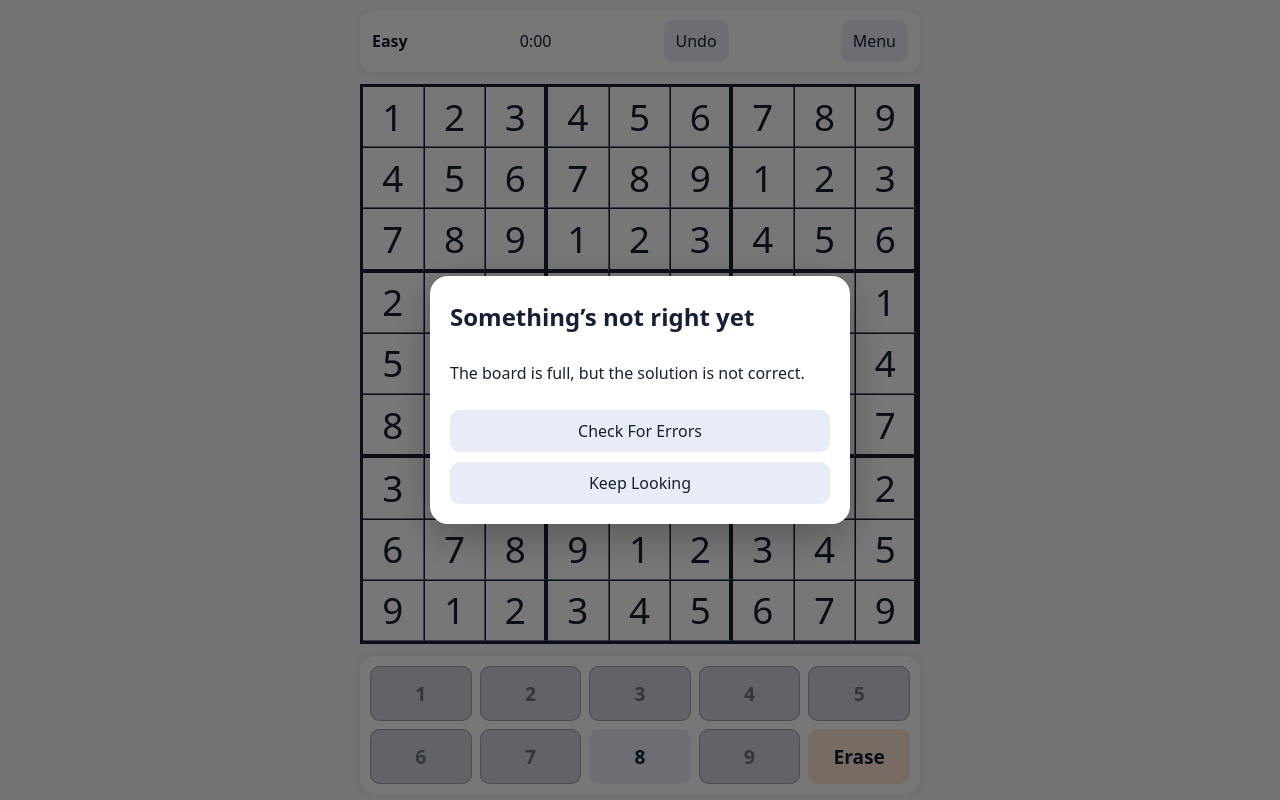
full but incorrect board shows a popup and check errors highlights wrong values
Expected: the heading "Something’s not right yet" is shown, [450,300,754,332]
Click the button "Check for errors": (640, 431) [450,410,830,452]
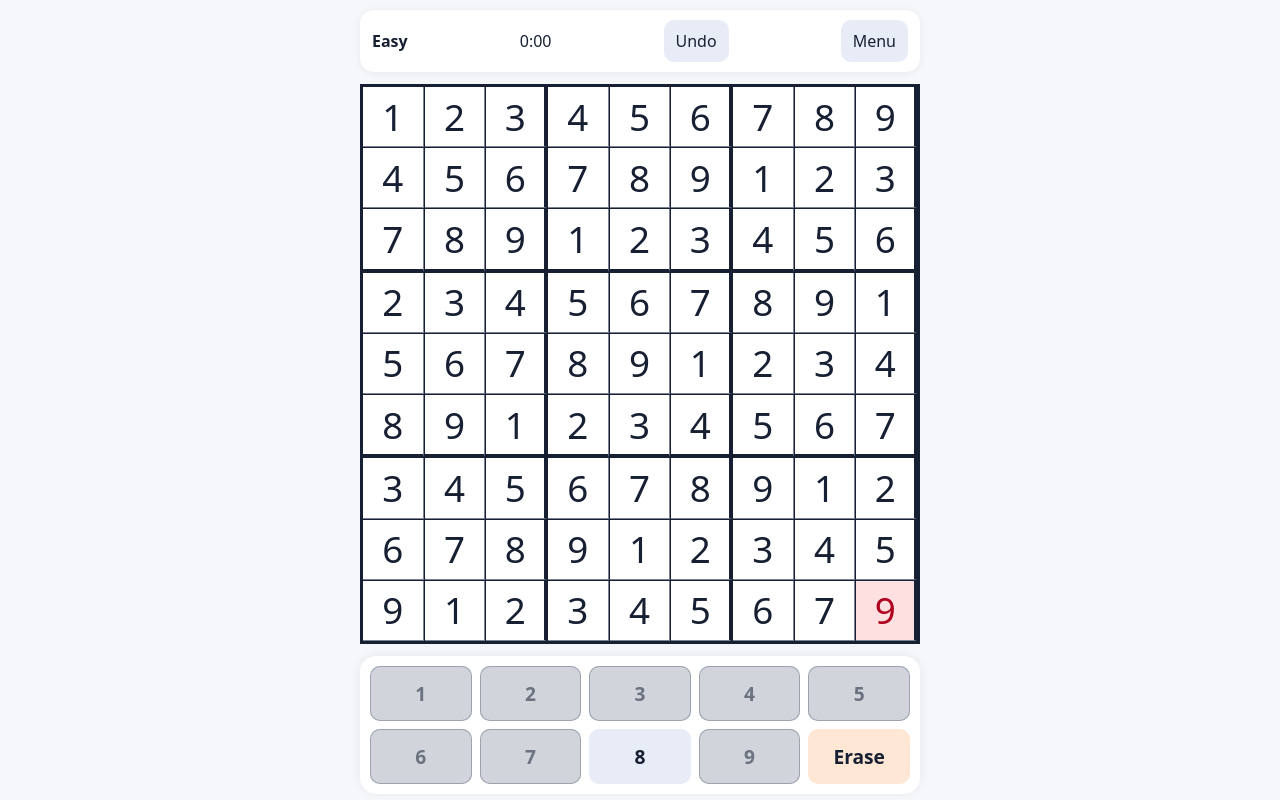
Expected: the heading "Something" is gone
